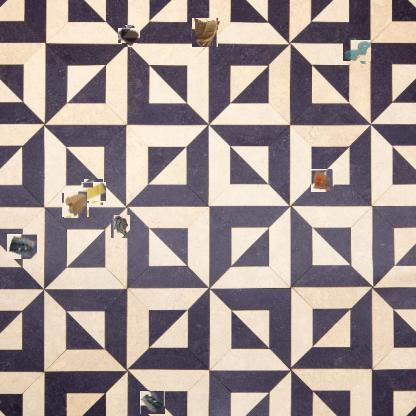dirty: (191, 18, 219, 46), (7, 234, 37, 259), (63, 192, 88, 218), (140, 390, 165, 415), (82, 181, 105, 203), (311, 169, 333, 192), (110, 214, 131, 238)
liquid: (344, 38, 369, 63), (120, 27, 139, 45)
